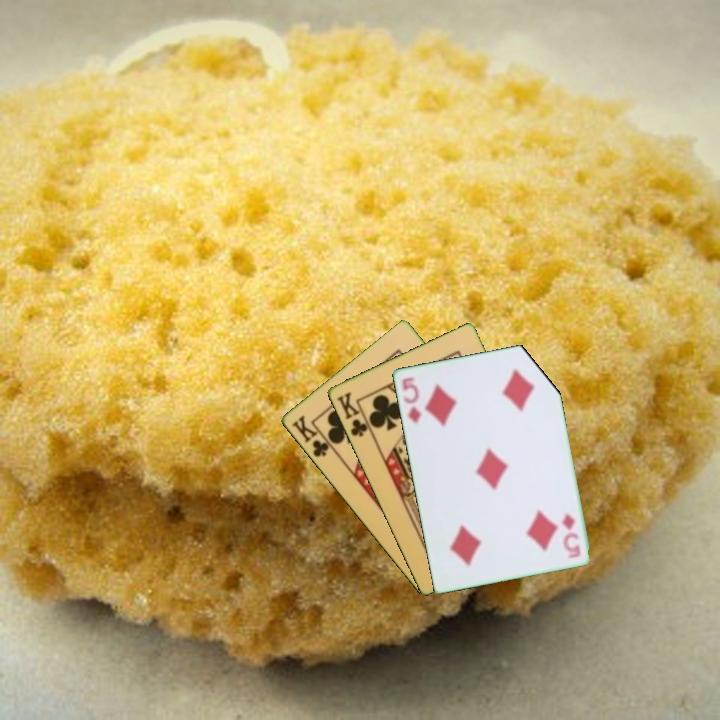5d: (558, 508, 583, 561), (399, 373, 424, 425)
Kc: (287, 411, 337, 460), (332, 388, 374, 440)
